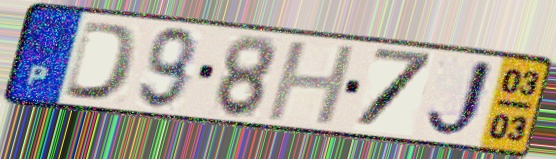7: (356, 45, 438, 135)
8: (212, 31, 279, 121)
9: (136, 24, 203, 113)
D: (59, 17, 143, 104)
H: (262, 40, 361, 127)
J: (421, 56, 498, 141)
